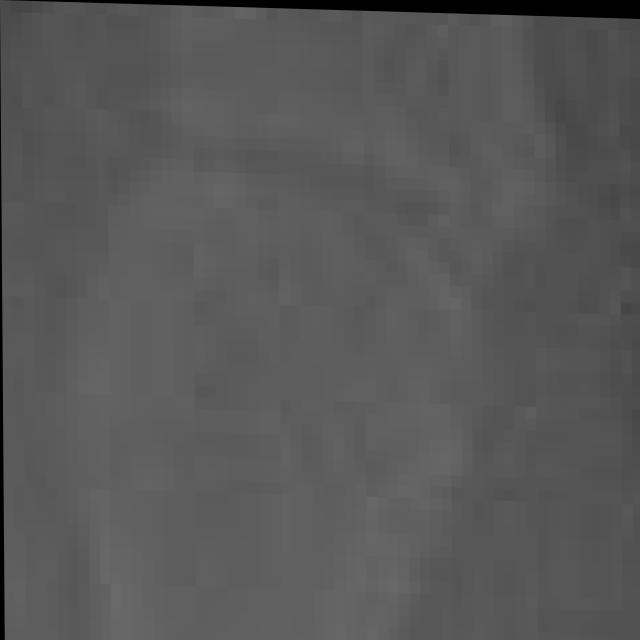fracture: (2, 11, 640, 640)
